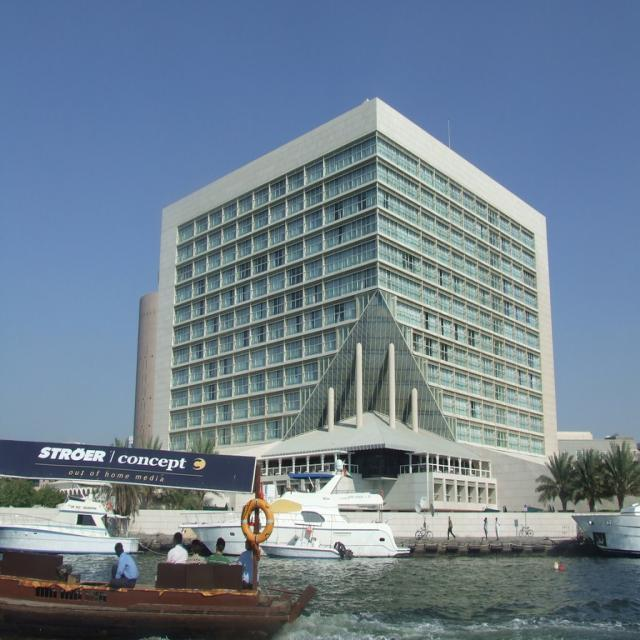Boat: (0, 449, 317, 640), (175, 456, 414, 568), (0, 492, 137, 562), (567, 496, 640, 560)
